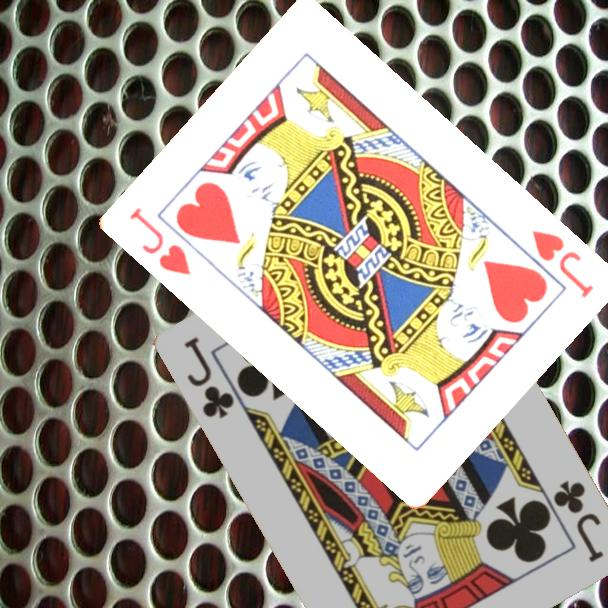c11: (550, 477, 607, 566), (181, 333, 238, 422)
h11: (528, 226, 597, 301), (126, 204, 194, 279)
